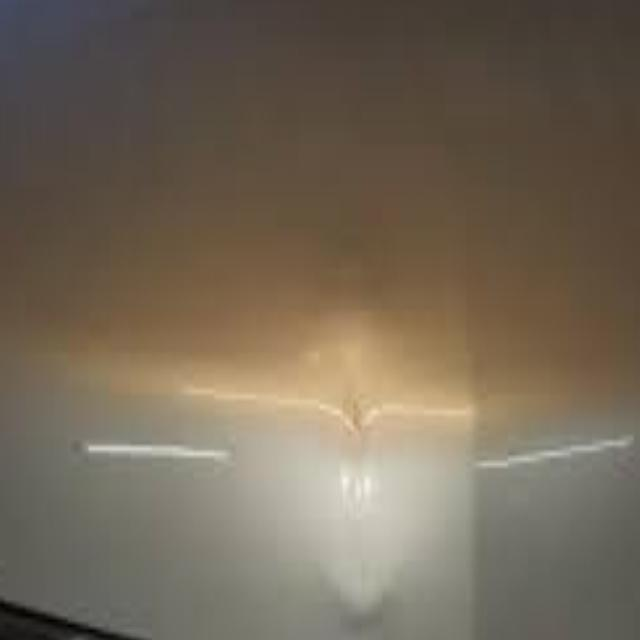dents: (334, 378, 381, 470)
